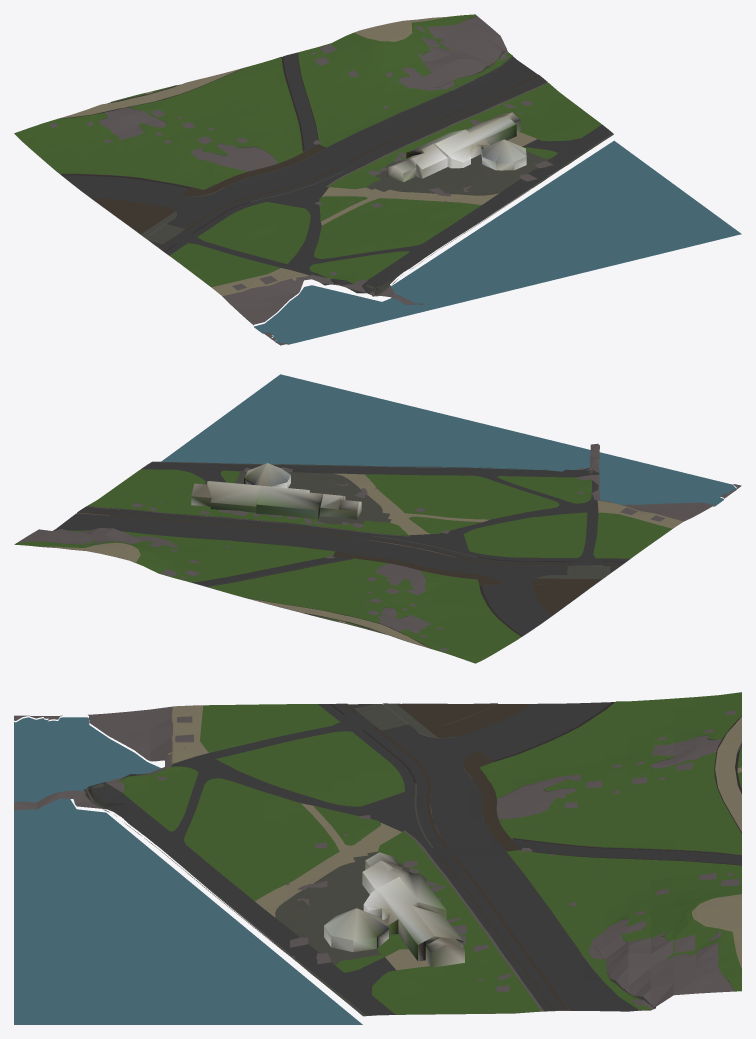
The picture shows the model from 3 angles, top to bottom: view 1: azimuth 30°, elevation 25°; view 2: azimuth 150°, elevation 25°; view 3: azimuth 270°, elevation 25°; orthographic projection. The views are drawn at different scales.
Parts seen in each view (by area): view 1: c_p03_p12; view 2: c_p03_p12; view 3: c_p03_p12.
Boxes of the visible parts, left/top/right/bottom form: c_p03_p12: left=14, top=14, right=741, bottom=345; c_p03_p12: left=14, top=374, right=741, bottom=663; c_p03_p12: left=14, top=692, right=741, bottom=1024.
Size of the model in its own units: 128 by 9.82 by 128.
